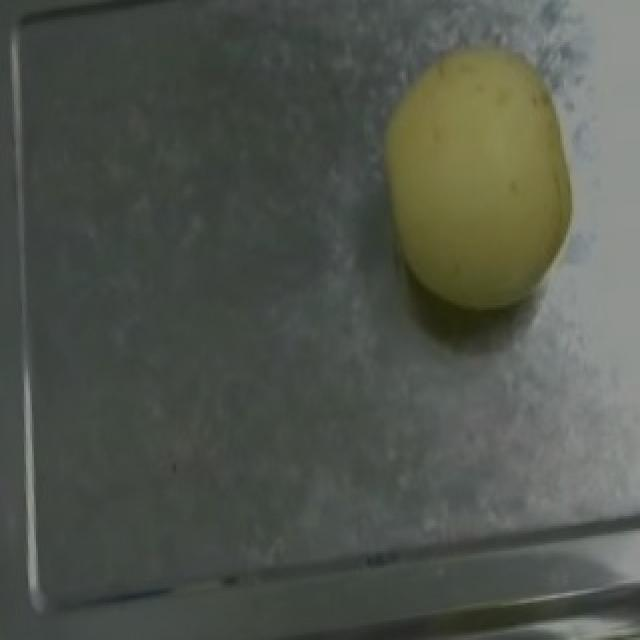Fruit: (346, 18, 608, 328)
